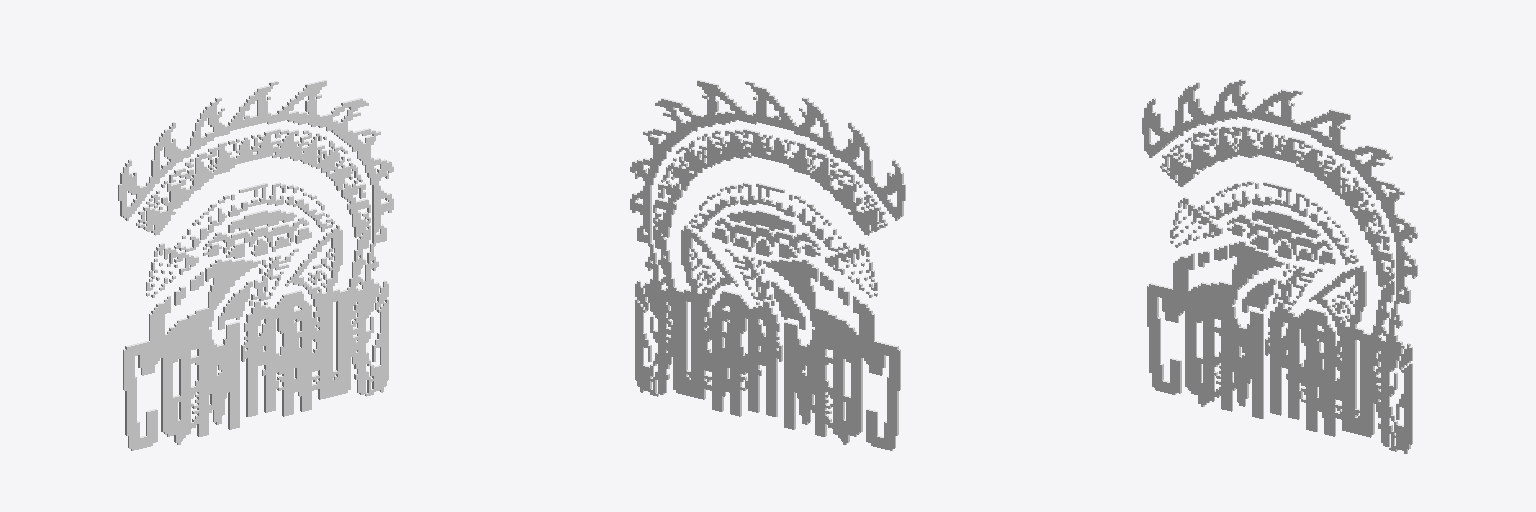
File: commando.obj
3 renders of one model, left to right at view 1: azimuth 30°, elevation 25°; view 2: azimuth 150°, elevation 25°; view 3: azimuth 330°, elevation 25°, orthographic.
Size of the model in its own units: 107 by 126 by 1.